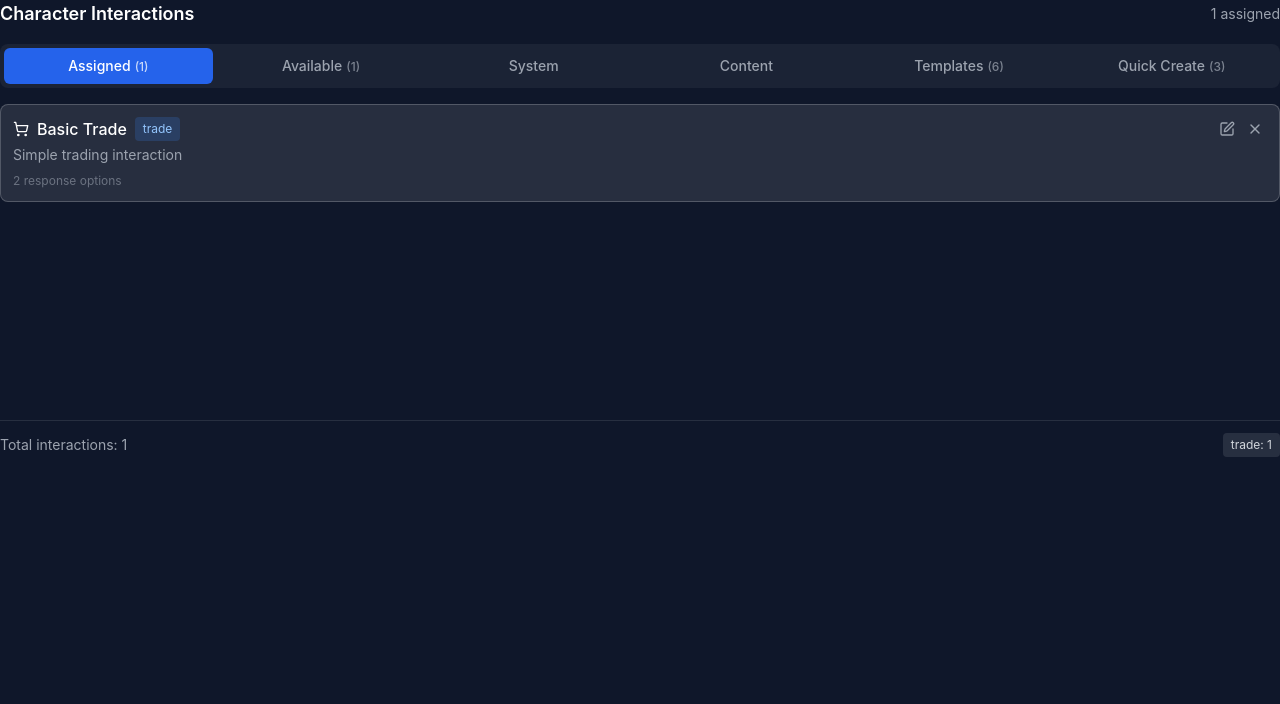
Scenario: InteractionAssignmentPanel › shows templates for character type
The image size is (1280, 704).
Click the button "Templates(6)". click: [959, 66]
box: [855,48,1063,84]
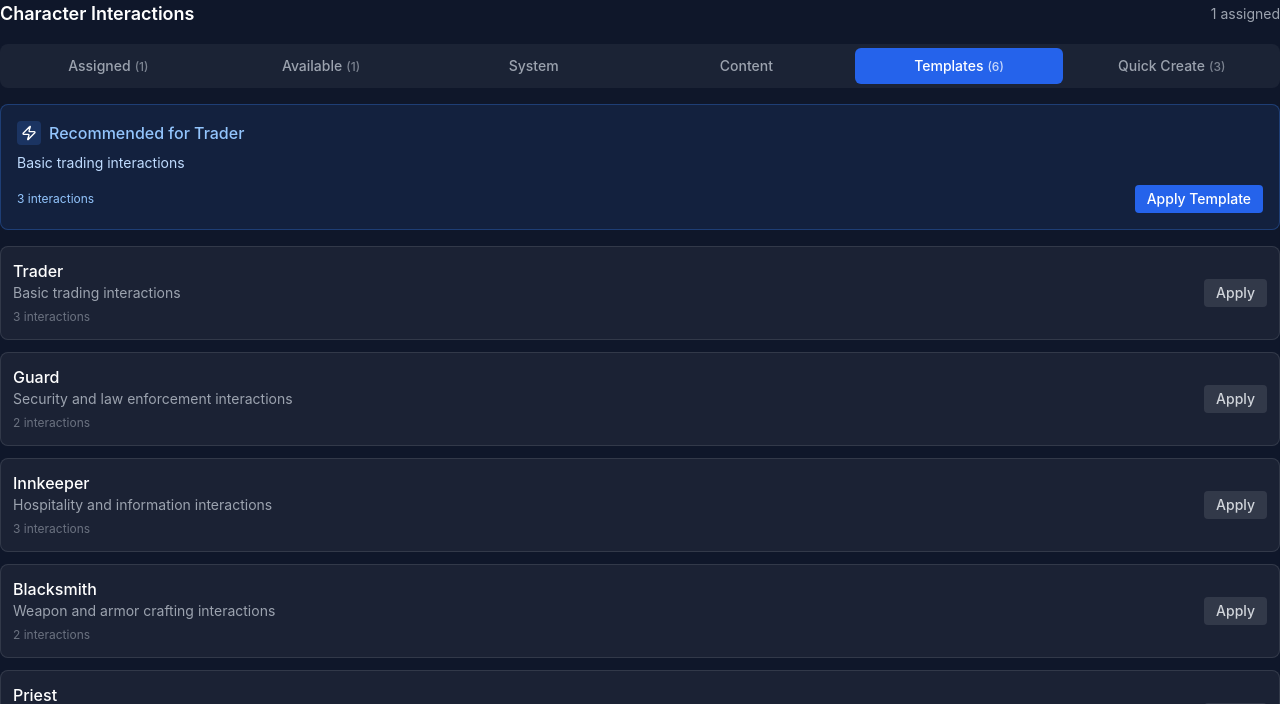
Check: the heading "Recommended for Trader" is shown, box [49,121,244,145]
